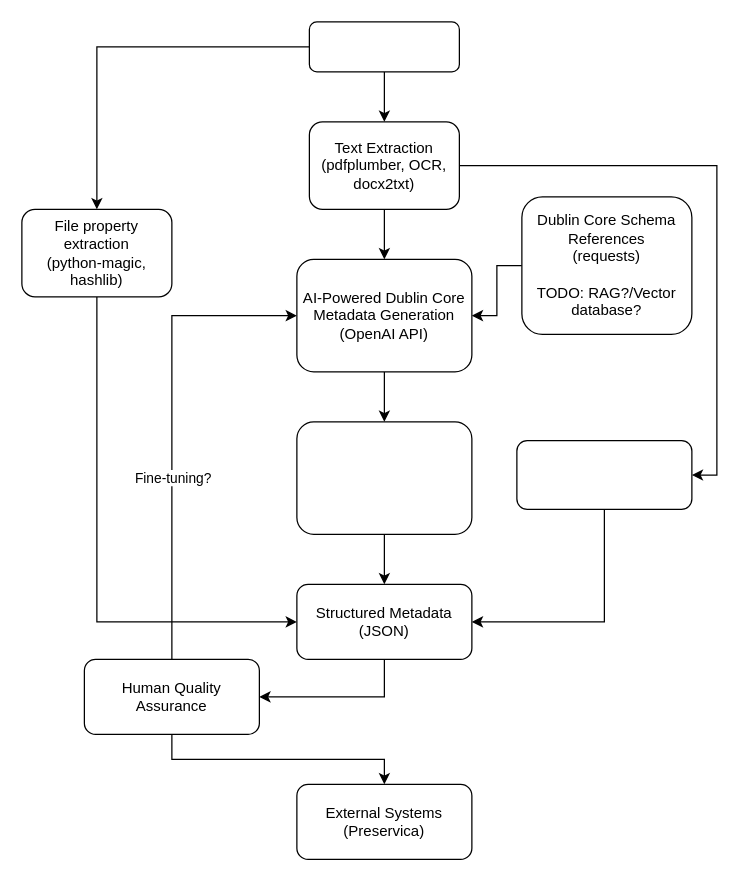
This 749x881 diagram has some shape labels left out. The centre of each missing label's shape, as x and y in pixels:
"External processing" goes at pixel 604 474.
"Input Files (PDF, DOCX etc.)" goes at pixel 383 46.
"Validation & Normalization (Date, MIME Type, Language)" goes at pixel 384 477.
